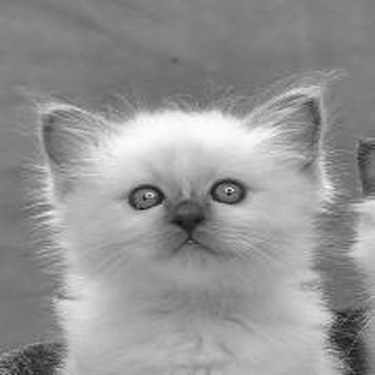cat: (36, 83, 358, 369)
